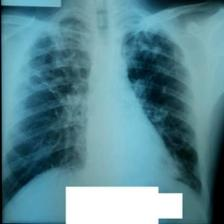tuberculosis: (1, 10, 208, 211)
